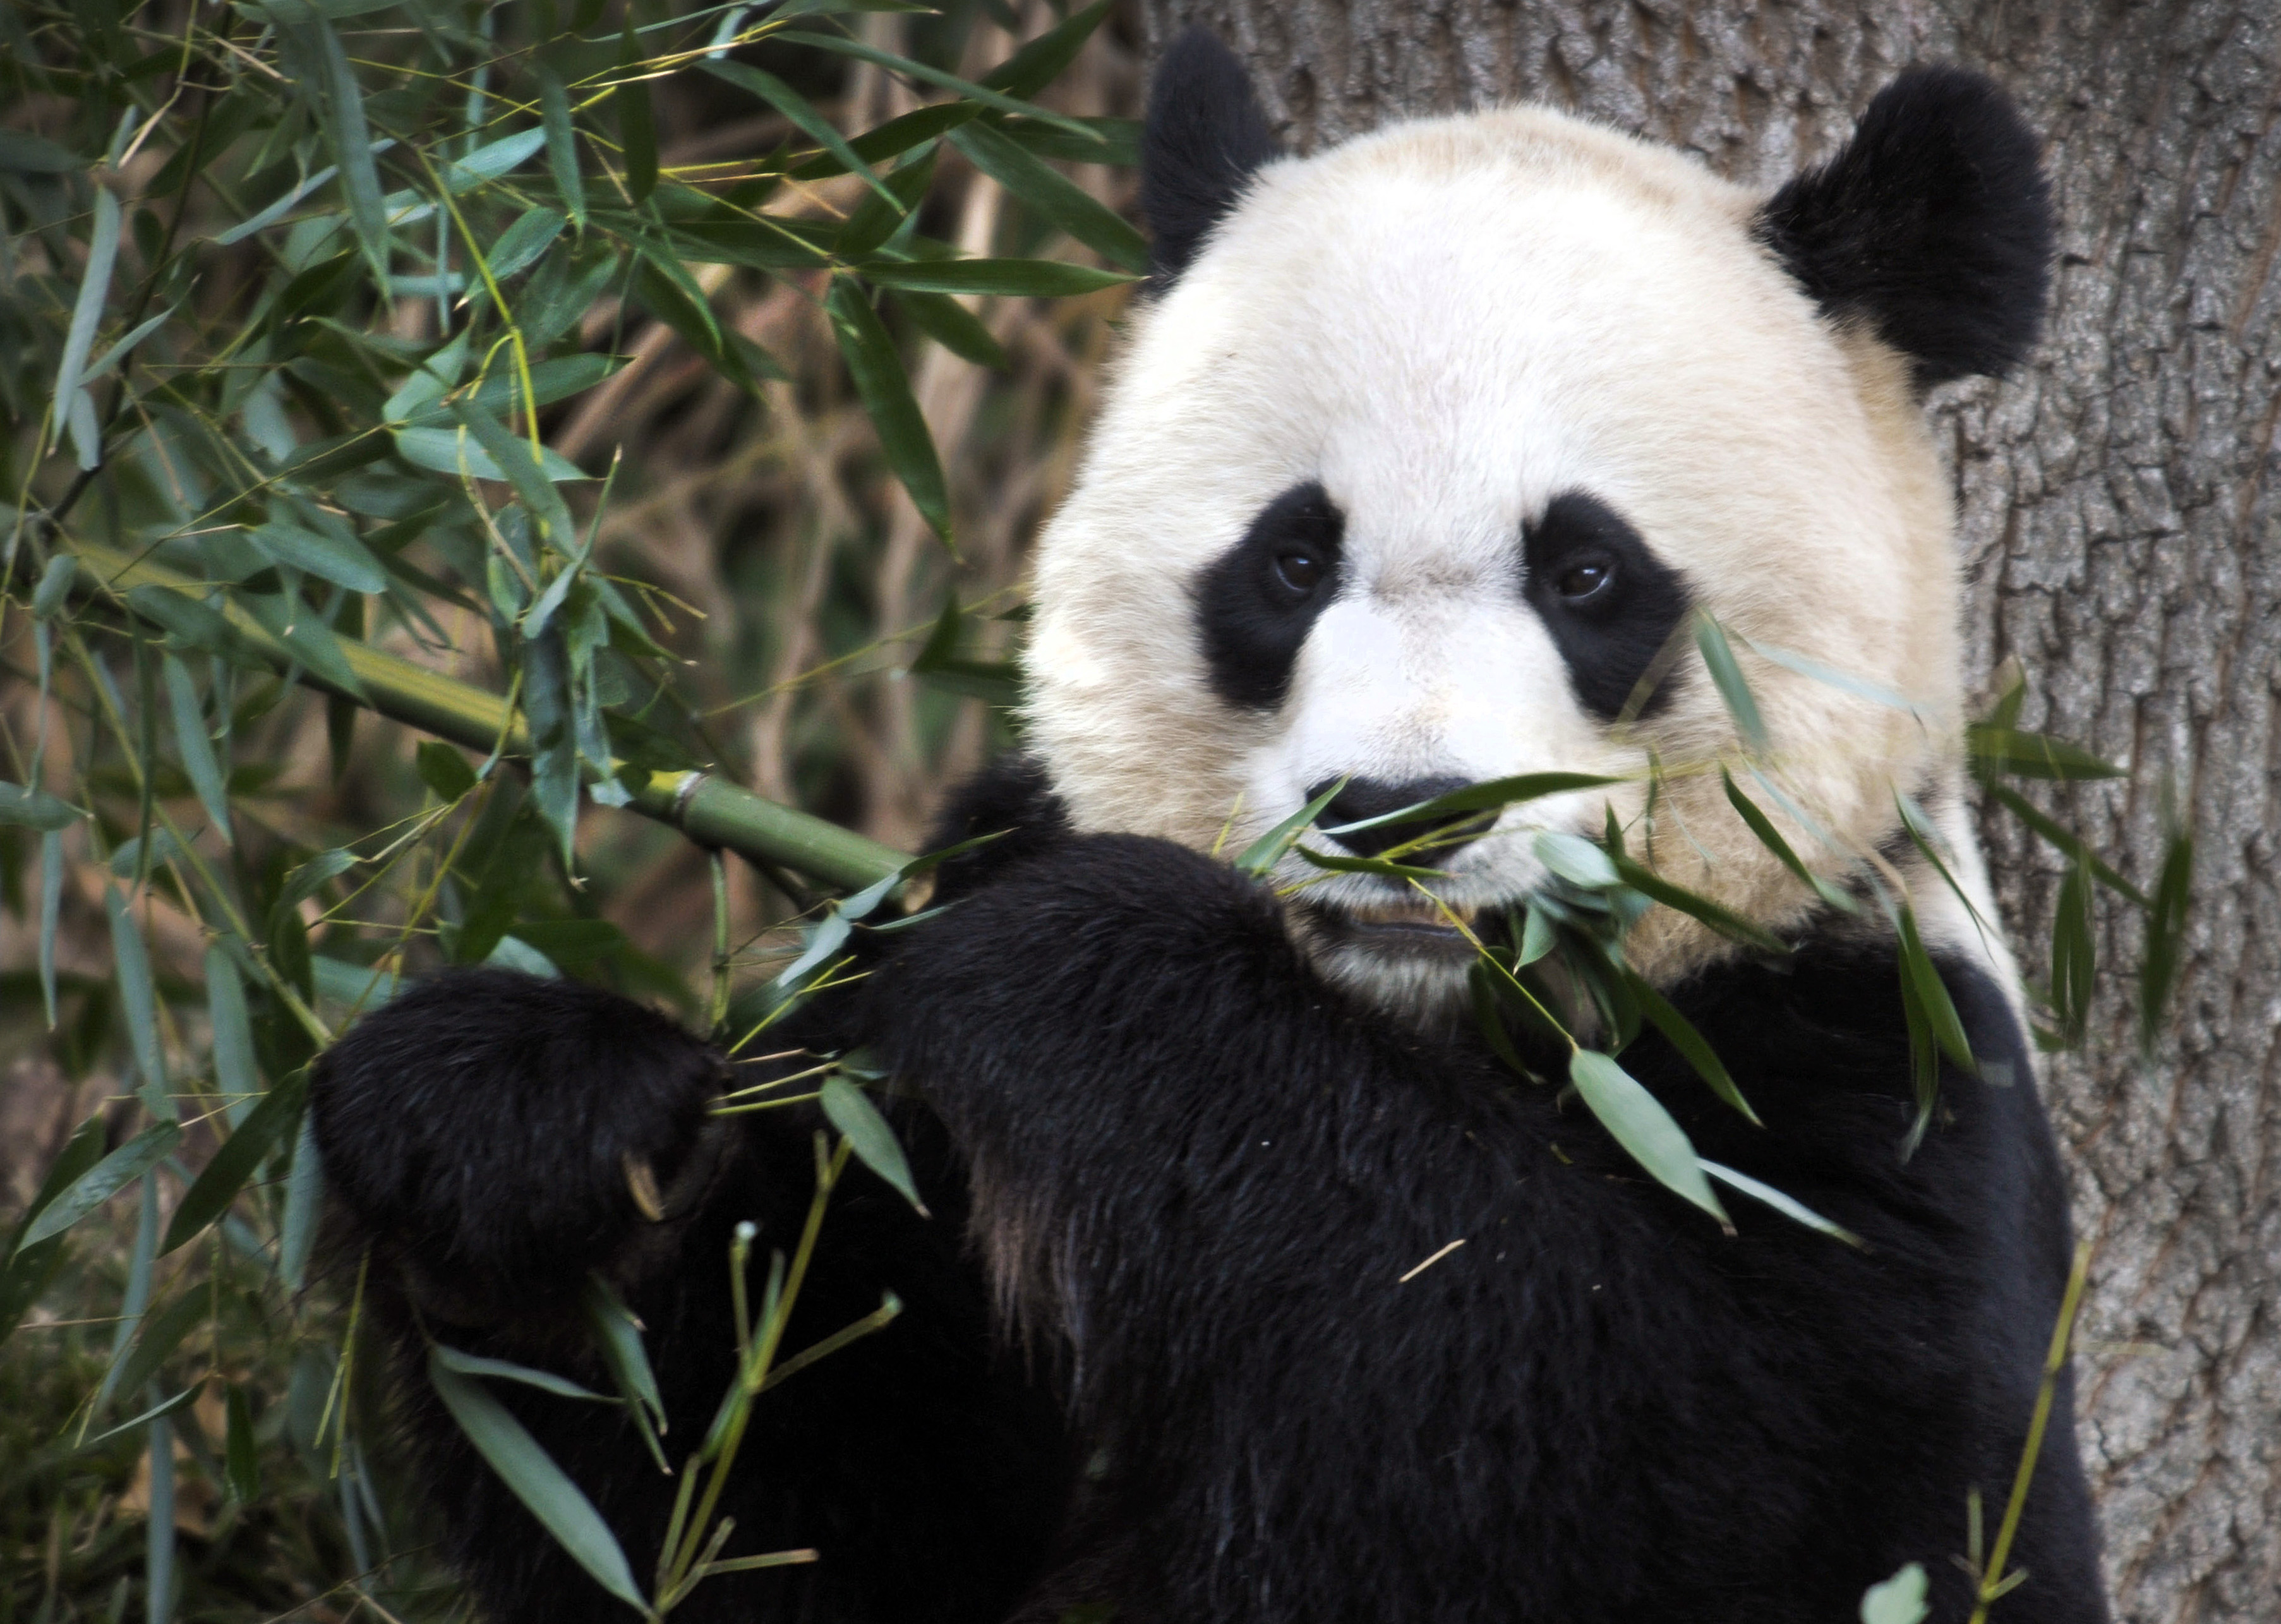panda: (213, 30, 2207, 1585)
